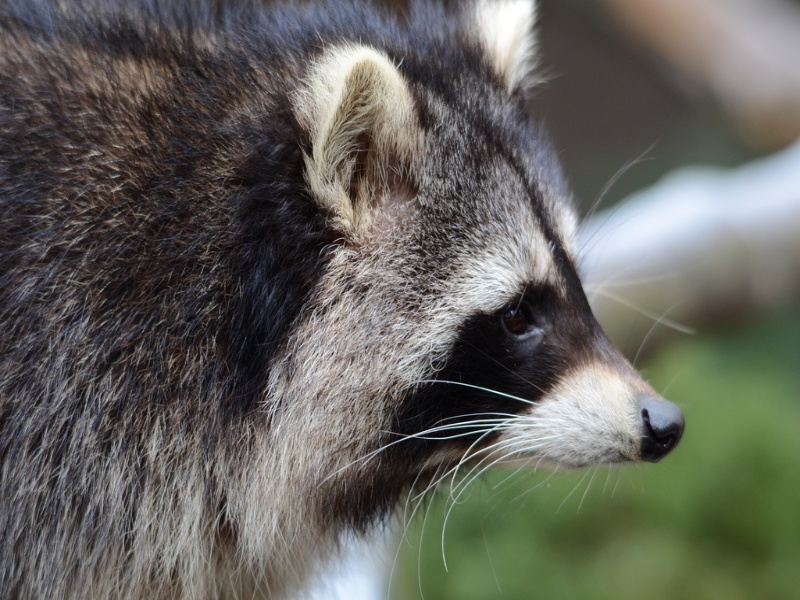raccoon: (1, 1, 690, 598)
